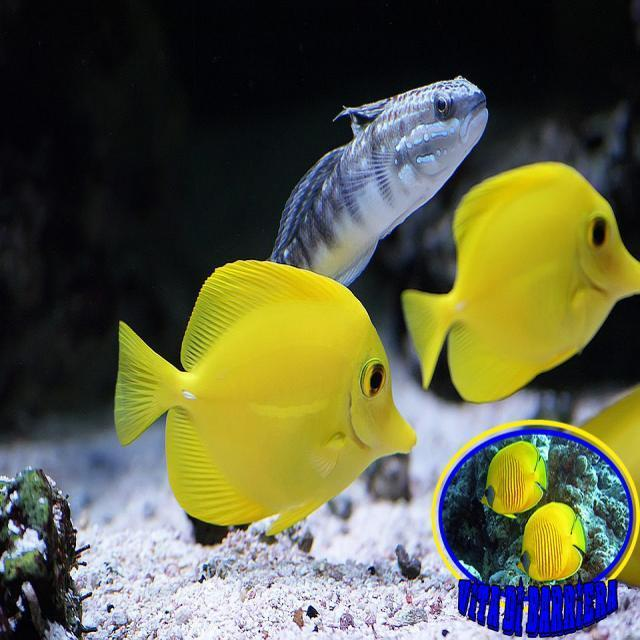TangFish: (106, 255, 421, 544), (398, 158, 640, 394)
